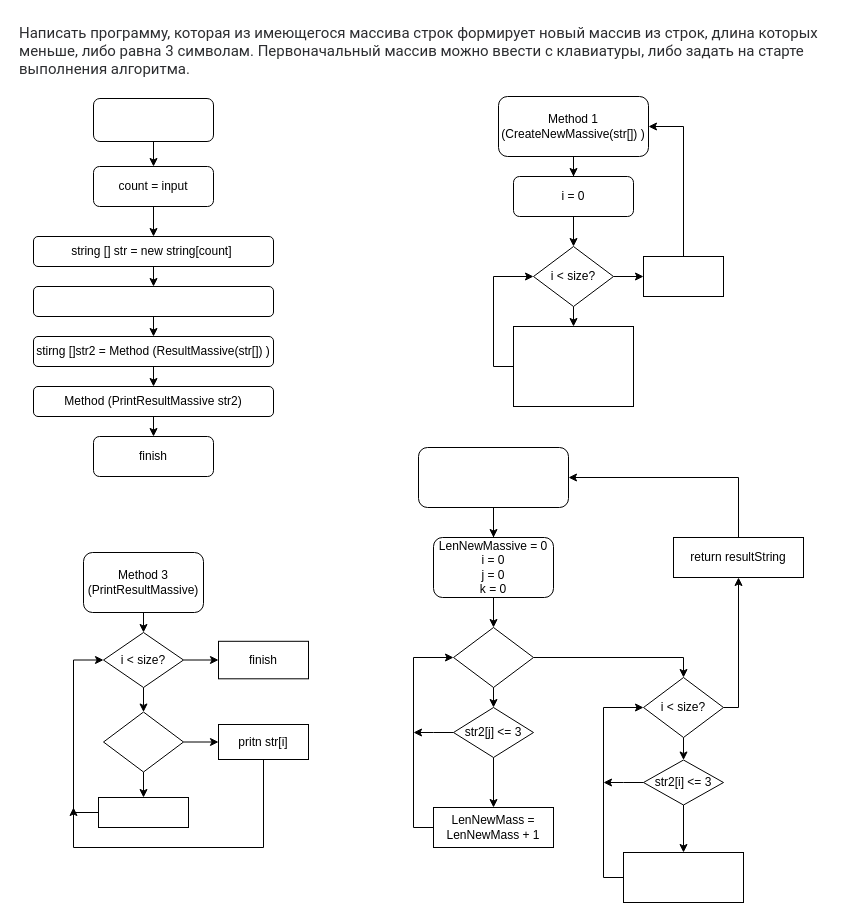
Image size: 854x920. Some labels were removed from this diagram. Here are the shapes that lost their labels. From the top down, the box of each, then its label:
(92, 98, 214, 142): Start
(642, 256, 724, 296): return str
(32, 286, 274, 316): Method (CreateNewMassive(str[]) )
(512, 326, 634, 406): newstr = Введите строку: i = i + 1 str[i] - newstr
(418, 446, 568, 508): Method 2 (ResultMassive(str2[]) )
(452, 626, 534, 688): j < size?
(102, 711, 184, 772): i < size - 1?
(98, 796, 188, 828): pritn str[i] + ,
(622, 852, 744, 902): resultString[k] = str2[i] k = k + 1
